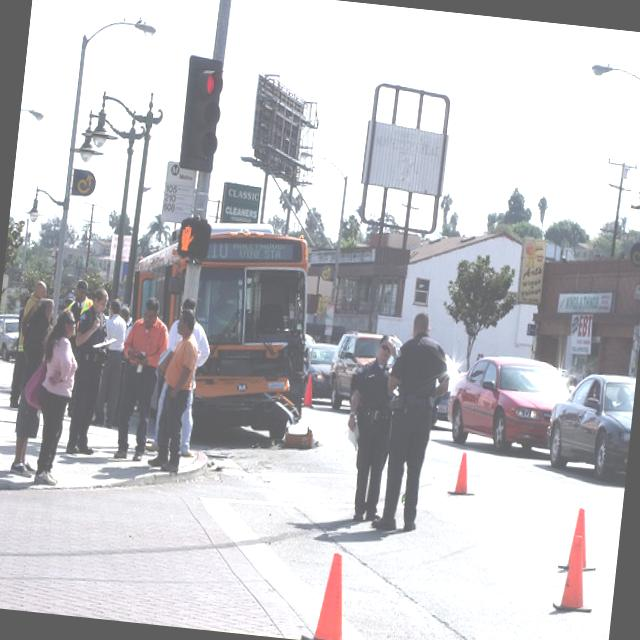Vehicle: (117, 212, 320, 453), (444, 350, 573, 458), (542, 368, 636, 480), (324, 327, 404, 415), (300, 342, 338, 398), (0, 314, 20, 361)
